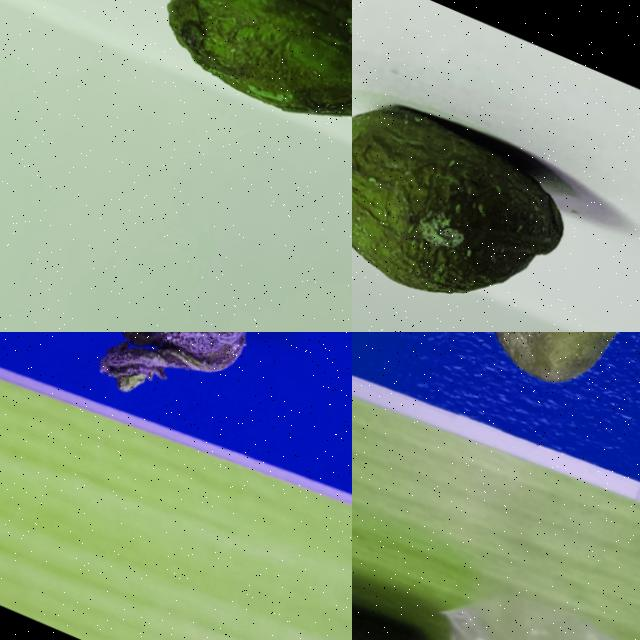Agglomerated_cocoabeans: (0, 332, 351, 521)
Fine_cocoabeans: (352, 50, 639, 331), (54, 0, 351, 232), (352, 332, 639, 461)
